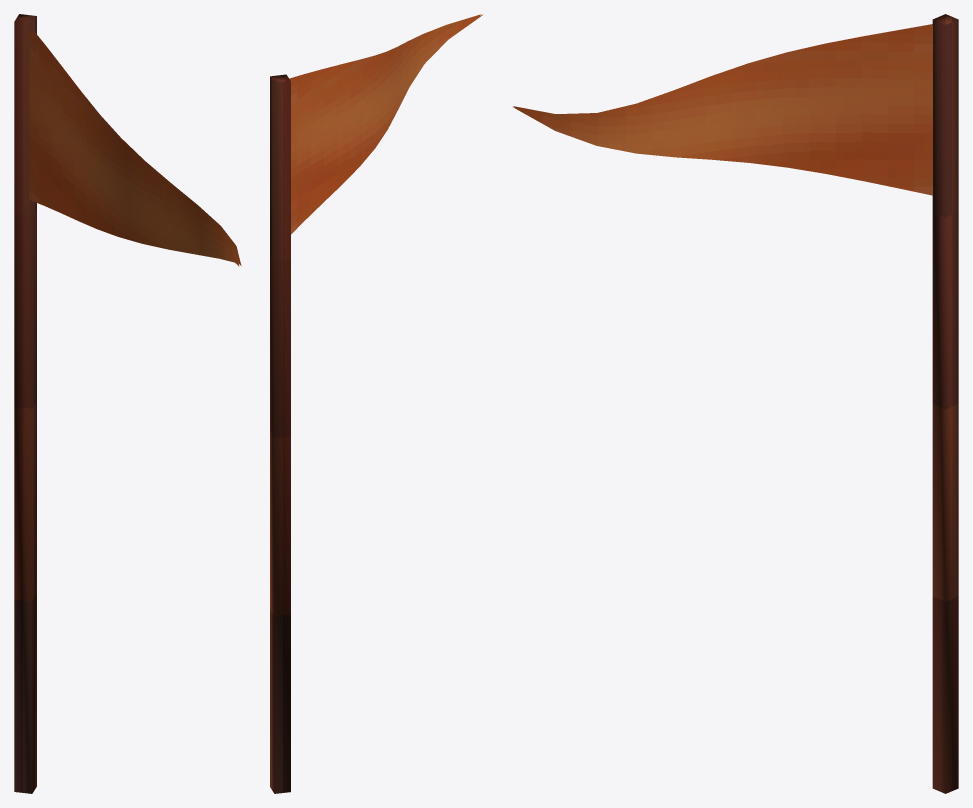
Rendered from PENNANT2_ACTORDEF.fbx.
The picture shows the model from 3 angles, left to right: view 1: azimuth 30°, elevation 25°; view 2: azimuth 150°, elevation 25°; view 3: azimuth 270°, elevation 25°; orthographic projection. The views are drawn at different scales.
Visible parts, largest first — view 1: U3DMesh; view 2: U3DMesh; view 3: U3DMesh.
Boxes of the visible parts, x1,y1,x2,y2 form: U3DMesh: (14, 14, 241, 793); U3DMesh: (270, 14, 483, 793); U3DMesh: (513, 14, 958, 793).
Size of the model in its own units: 0.4263 by 9.8 by 5.15.
